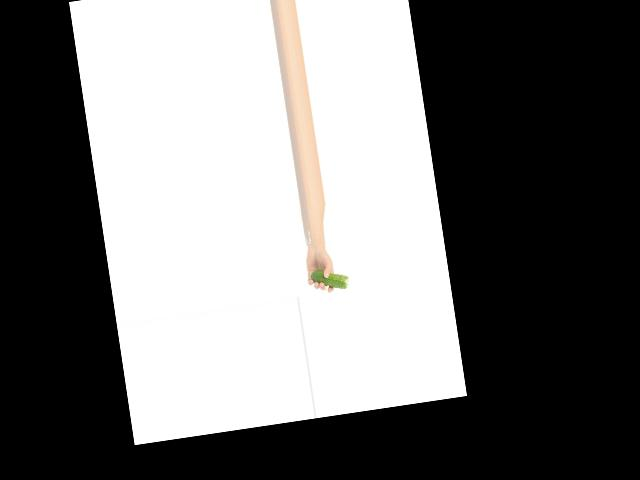cucumber: (309, 265, 349, 293)
